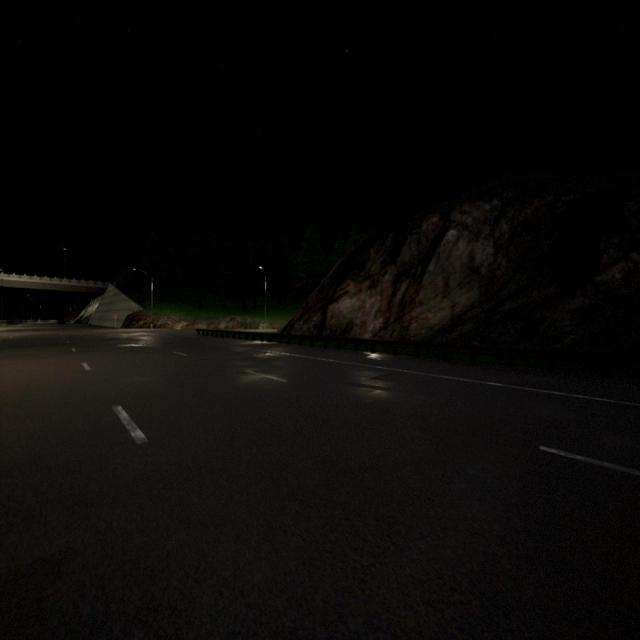Traffic_Signs: (114, 315, 117, 320)
Vehicle: (58, 318, 66, 326)
